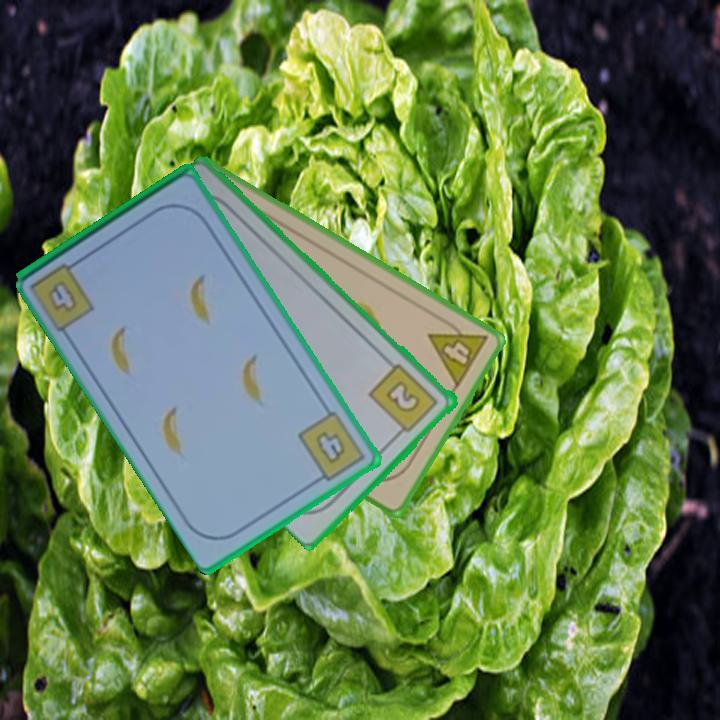2b: (366, 360, 442, 440)
4b: (294, 407, 368, 487), (44, 276, 82, 316)
4p: (424, 312, 491, 391)
